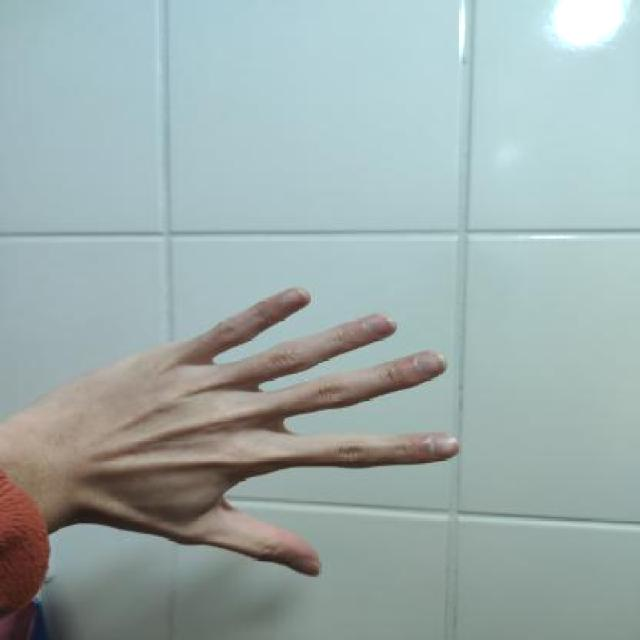no_glove: (9, 275, 473, 582)
